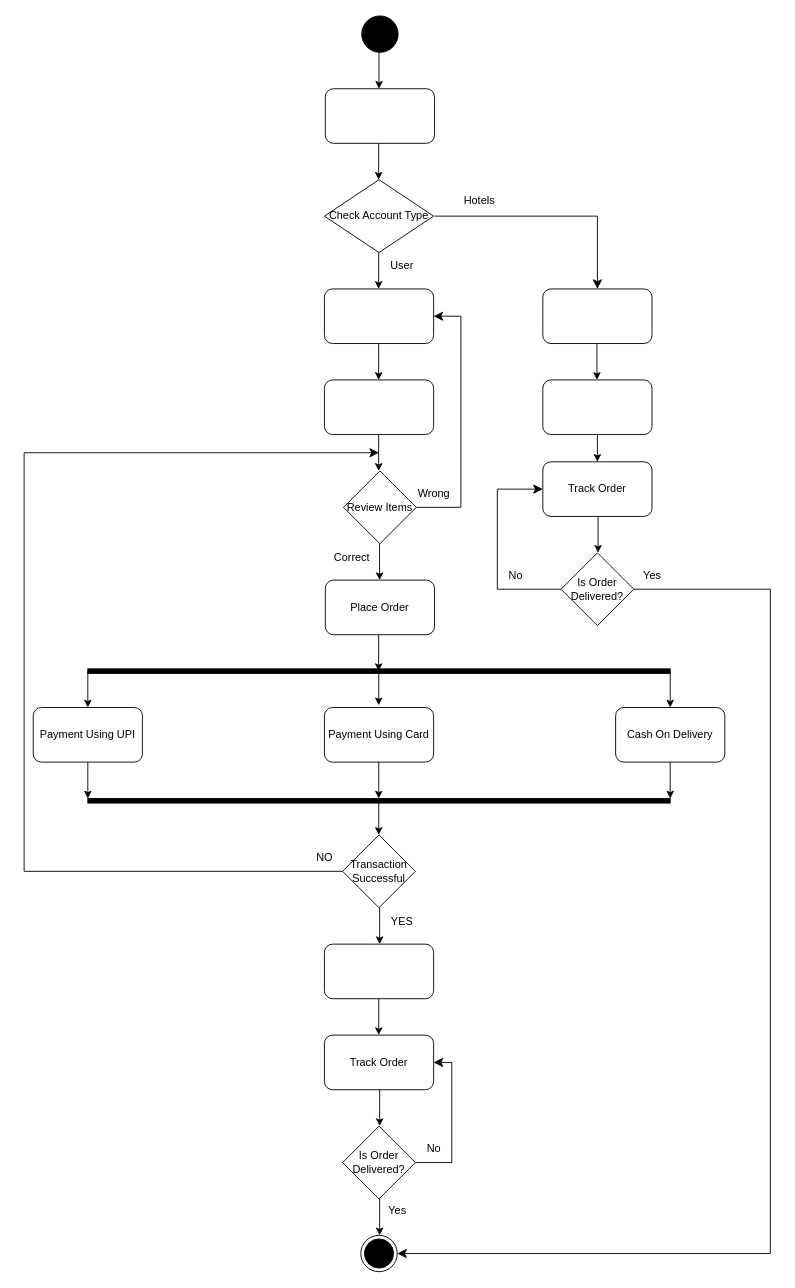
The diagram is 795 pixels wide and 1288 high, and some of its shapes have lost their labels. Here are the shapes that lost their labels. From the top down, the centre of each, then its label:
At point 379,115: "Log In".
At point 379,316: "Open Homepage".
At point 597,316: "Open Dashboard".
At point 379,407: "Place Items in Cart".
At point 597,407: "Manage Menu".
At point 379,971: "Send Order Confirmation Message".
